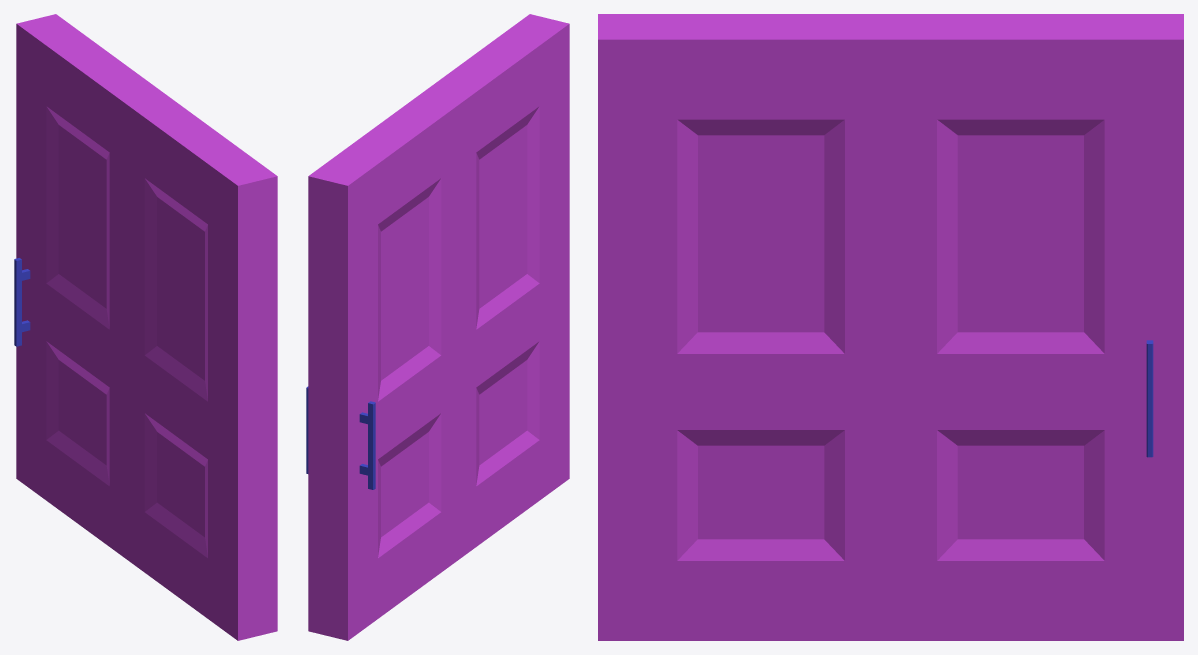
The model's file is Door.FBX.
3 views of the same model, side by side, from view 1: azimuth 30°, elevation 25°; view 2: azimuth 150°, elevation 25°; view 3: azimuth 270°, elevation 25° (orthographic). The views are drawn at different scales.
Visible parts, largest first — view 1: Door; view 2: Door; view 3: Door.
Part boxes in pixels (left/top/right/bottom): Door: left=14, top=14, right=277, bottom=640; Door: left=306, top=14, right=569, bottom=640; Door: left=598, top=14, right=1183, bottom=640.
Size of the model in its own units: 0.4933 by 3.17 by 2.8.
